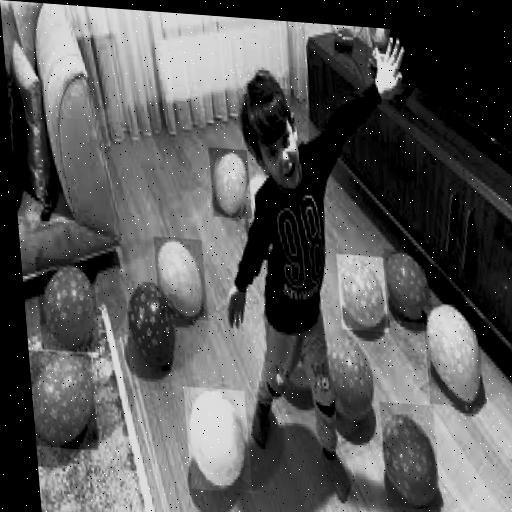balloon: (183, 387, 252, 494), (29, 350, 98, 450), (379, 402, 441, 511), (422, 303, 485, 408), (35, 257, 100, 353), (124, 280, 182, 371), (153, 236, 208, 321), (337, 254, 389, 332), (384, 249, 433, 324), (209, 147, 253, 219)
